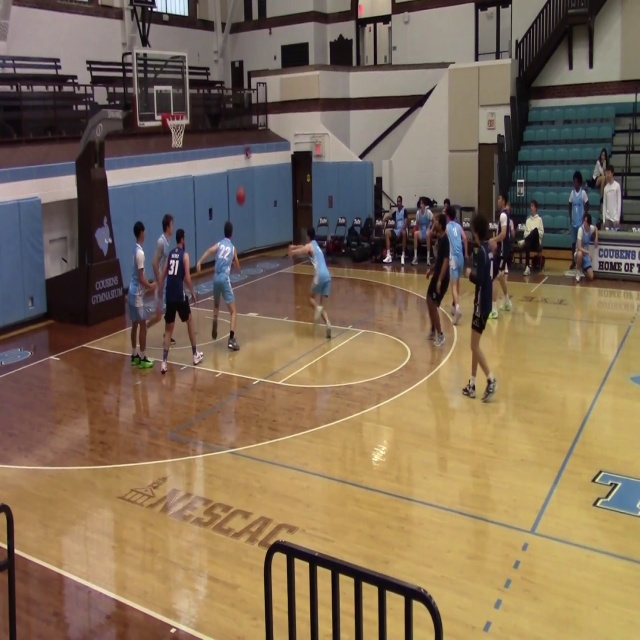Basketball: (235, 186, 245, 205)
